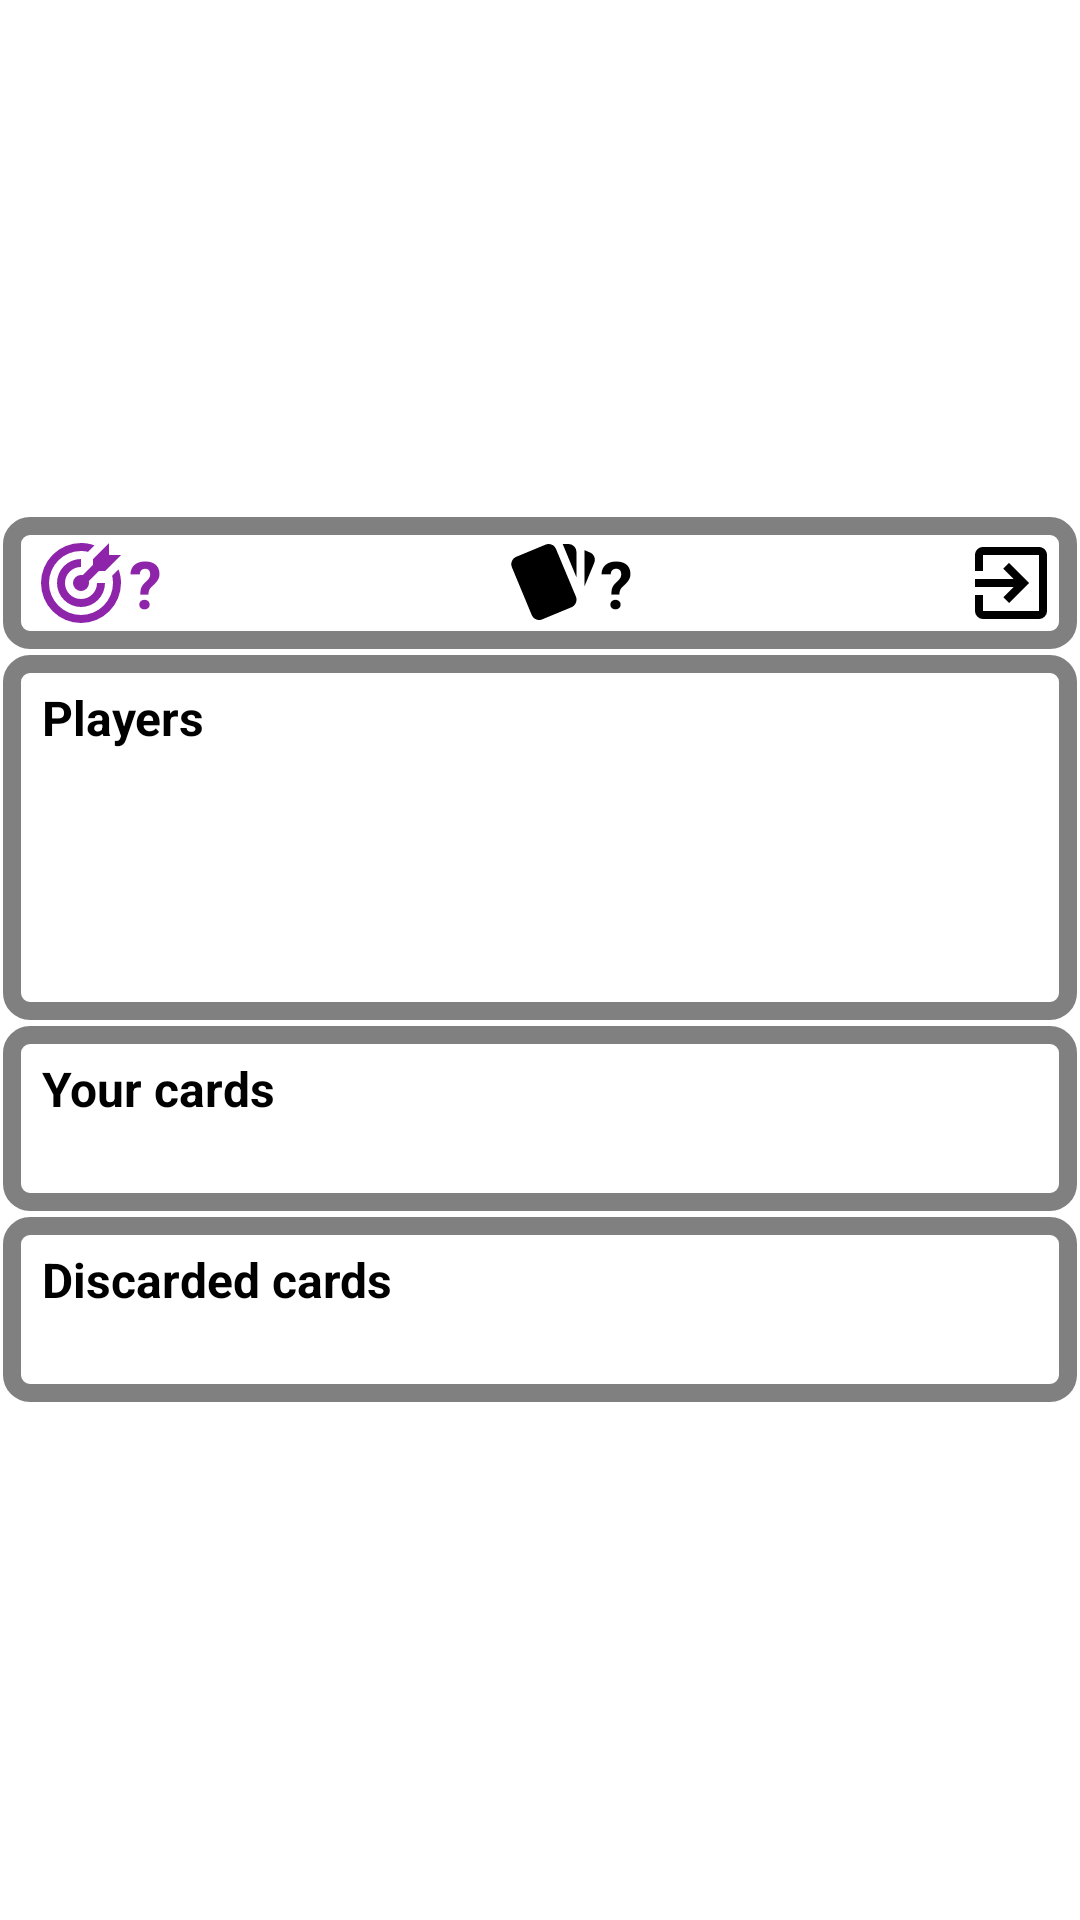

Icon bounding boxes for this 1080×1920 phone screenshot, format bbox(x1, y1, x2, y2):
Exit game: bbox(963, 535, 1059, 631)
